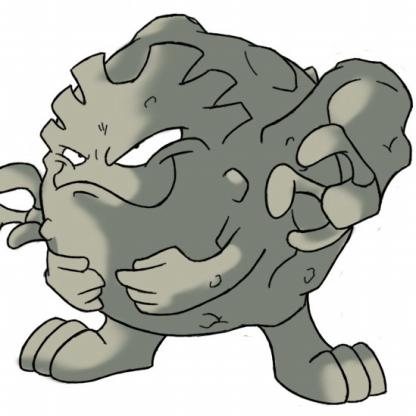Graveler: (1, 15, 416, 408)
